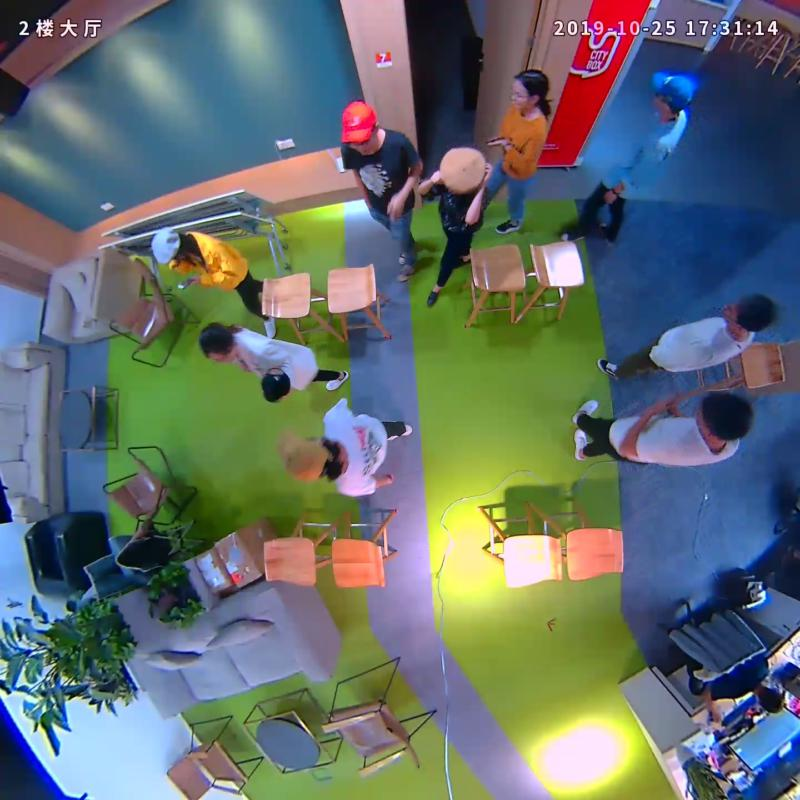head: (273, 426, 341, 482), (698, 391, 753, 442), (439, 144, 486, 195), (719, 294, 776, 334), (341, 100, 377, 155), (648, 70, 694, 112), (510, 69, 549, 113), (198, 325, 237, 364), (150, 226, 188, 266)
